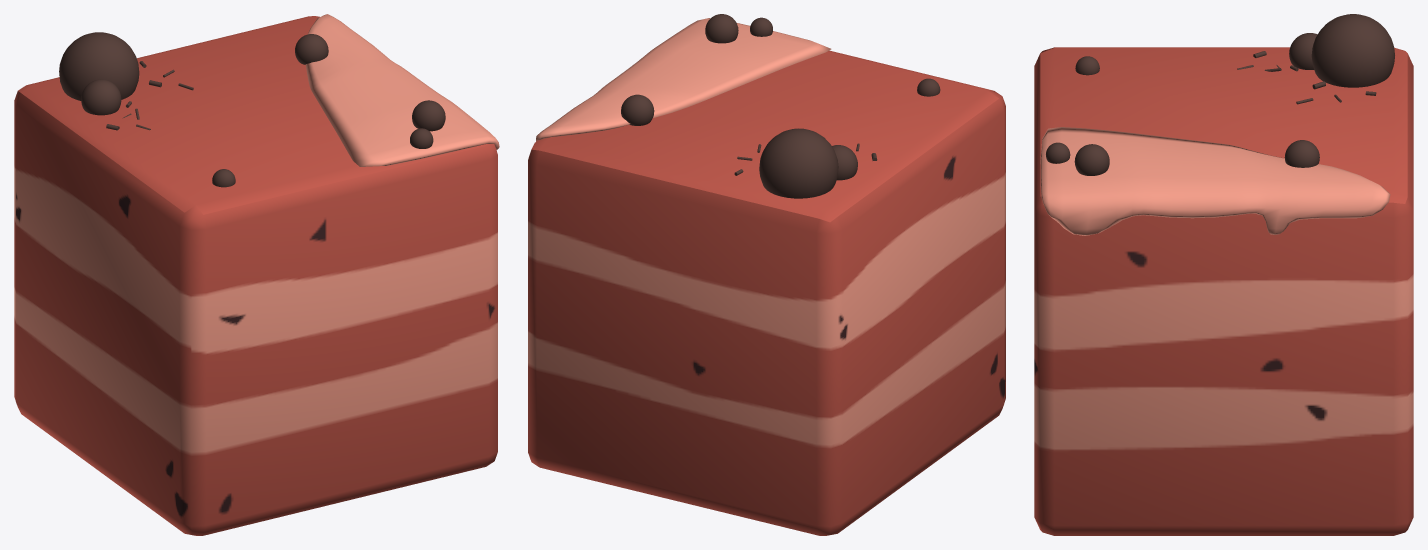
Rendered from Choco.fbx.
3 renders of one model, left to right at view 1: azimuth 30°, elevation 25°; view 2: azimuth 150°, elevation 25°; view 3: azimuth 270°, elevation 25°, orthographic. The views are drawn at different scales.
Visible parts, largest first — view 1: Cube, Cube.001, Sphere.001, Sphere, Sphere.004, Sphere.005; view 2: Cube, Cube.001, Sphere.001, Sphere.005, Sphere.004, Sphere; view 3: Cube, Cube.001, Sphere.001, Sphere.004, Sphere.005, Sphere.
Boxes of the visible parts, <box> form: Cube: <box>14,16,497,535</box>; Cube.001: <box>305,14,499,166</box>; Sphere.001: <box>59,32,139,100</box>; Sphere: <box>81,79,121,115</box>; Sphere.004: <box>412,100,445,131</box>; Sphere.005: <box>295,34,328,64</box>; Cube: <box>528,50,1005,535</box>; Cube.001: <box>536,18,831,141</box>; Sphere.001: <box>759,128,838,198</box>; Sphere.005: <box>621,94,654,125</box>; Sphere.004: <box>705,14,738,43</box>; Sphere: <box>832,145,857,180</box>; Cube: <box>1034,47,1413,535</box>; Cube.001: <box>1040,127,1390,235</box>; Sphere.001: <box>1311,14,1394,87</box>; Sphere.004: <box>1074,144,1109,175</box>; Sphere.005: <box>1284,140,1319,167</box>; Sphere: <box>1289,33,1317,69</box>.
Bounding box in the file's own units: 203 × 231 × 200.
3 materials, 2 textured.
